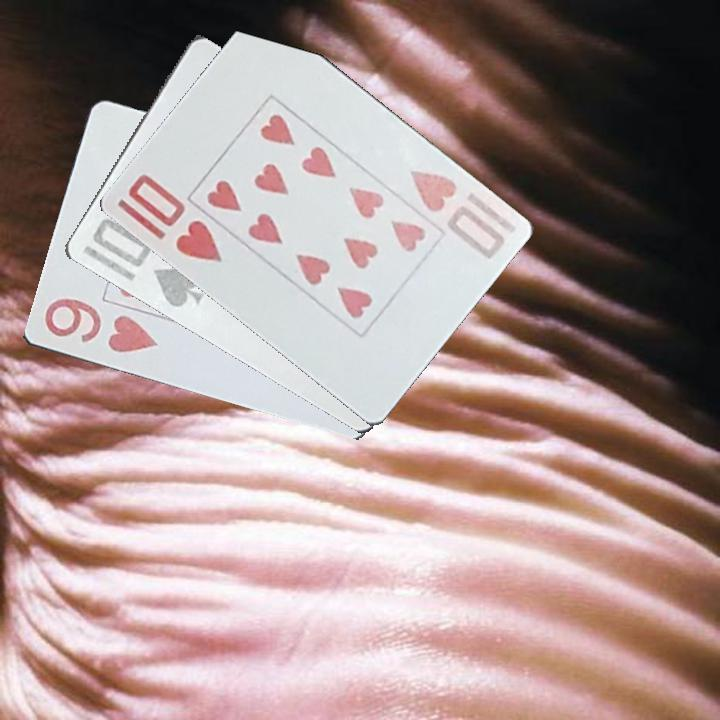9h: (40, 294, 161, 356)
Th: (404, 166, 519, 263), (123, 170, 225, 266)
Ts: (87, 215, 206, 312)
